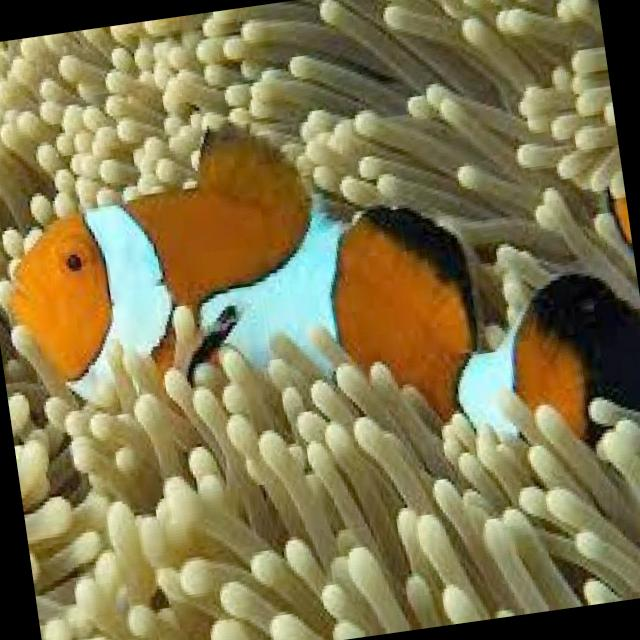ClownFish: (0, 74, 640, 513)
